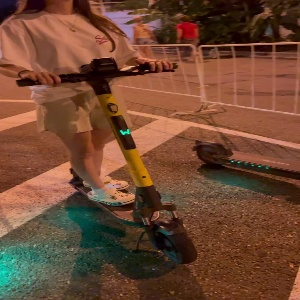human on a scooter: (1, 1, 200, 266)
